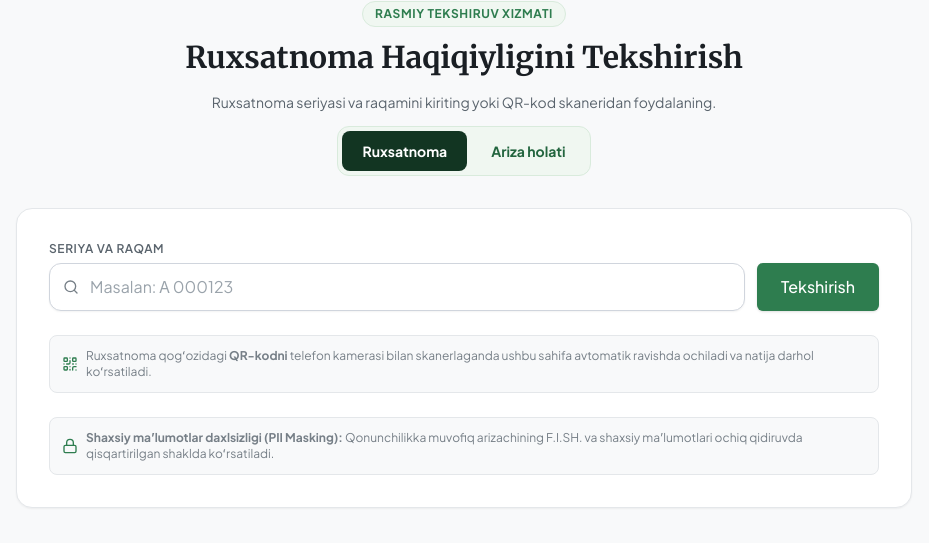
VerifyPage — application arm › renders an error alert, not a crash, when the check fails
Click the tab "Ariza holati": (528, 151) [471, 131, 586, 171]
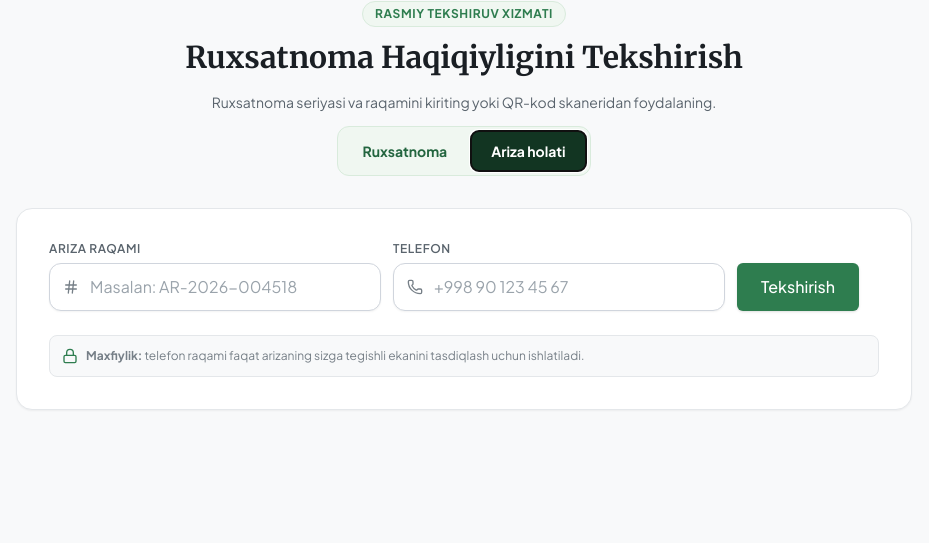
In the field labelled "Ariza raqami": (215, 287) [49, 263, 381, 311], type "AR-2026-004518"
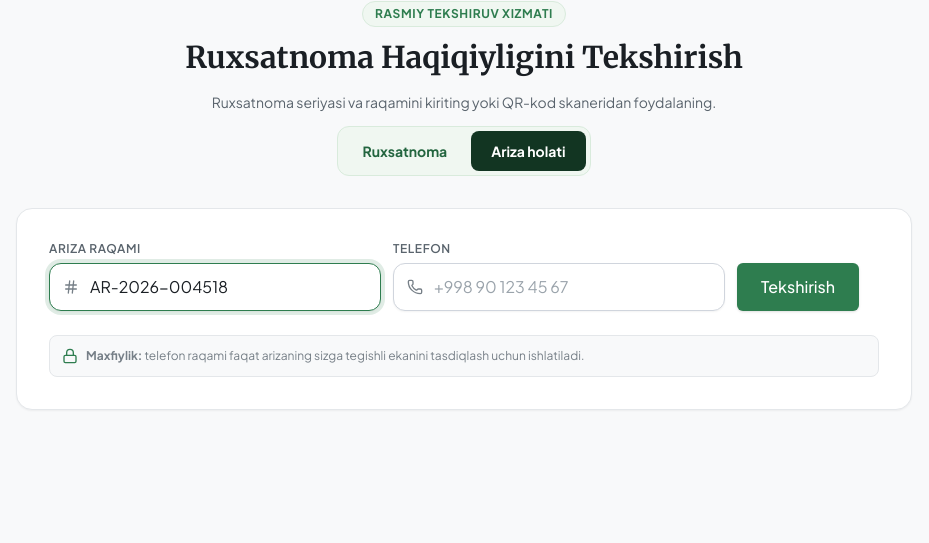
In the field labelled "Telefon": (559, 287) [393, 263, 725, 311], type "+998901234567"
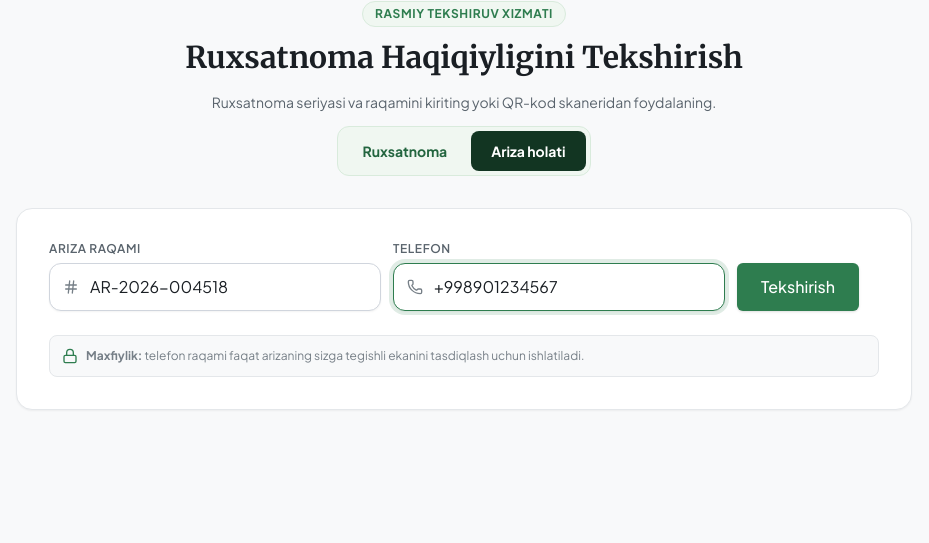
Click the button named "tekshirish": (798, 287) [737, 263, 859, 311]
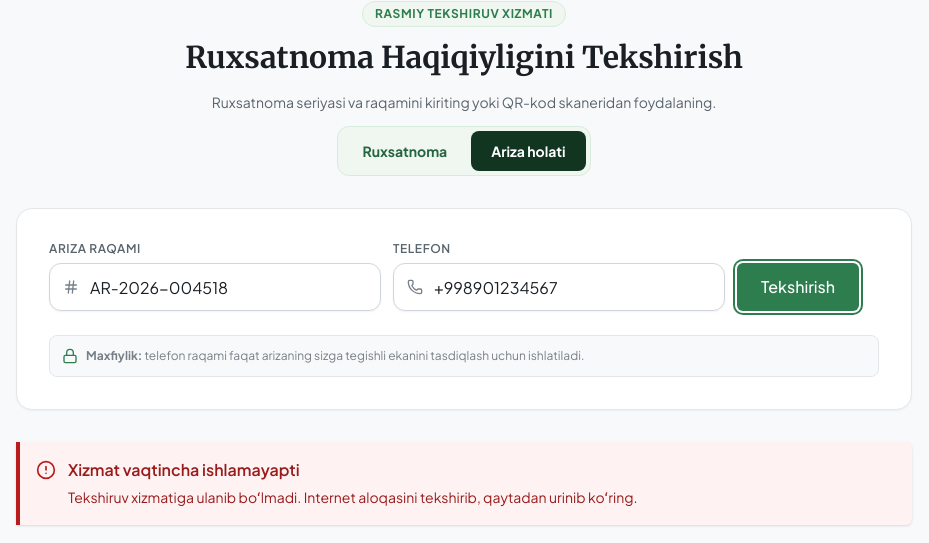
Check: the message is shown, box [16, 442, 912, 525]
